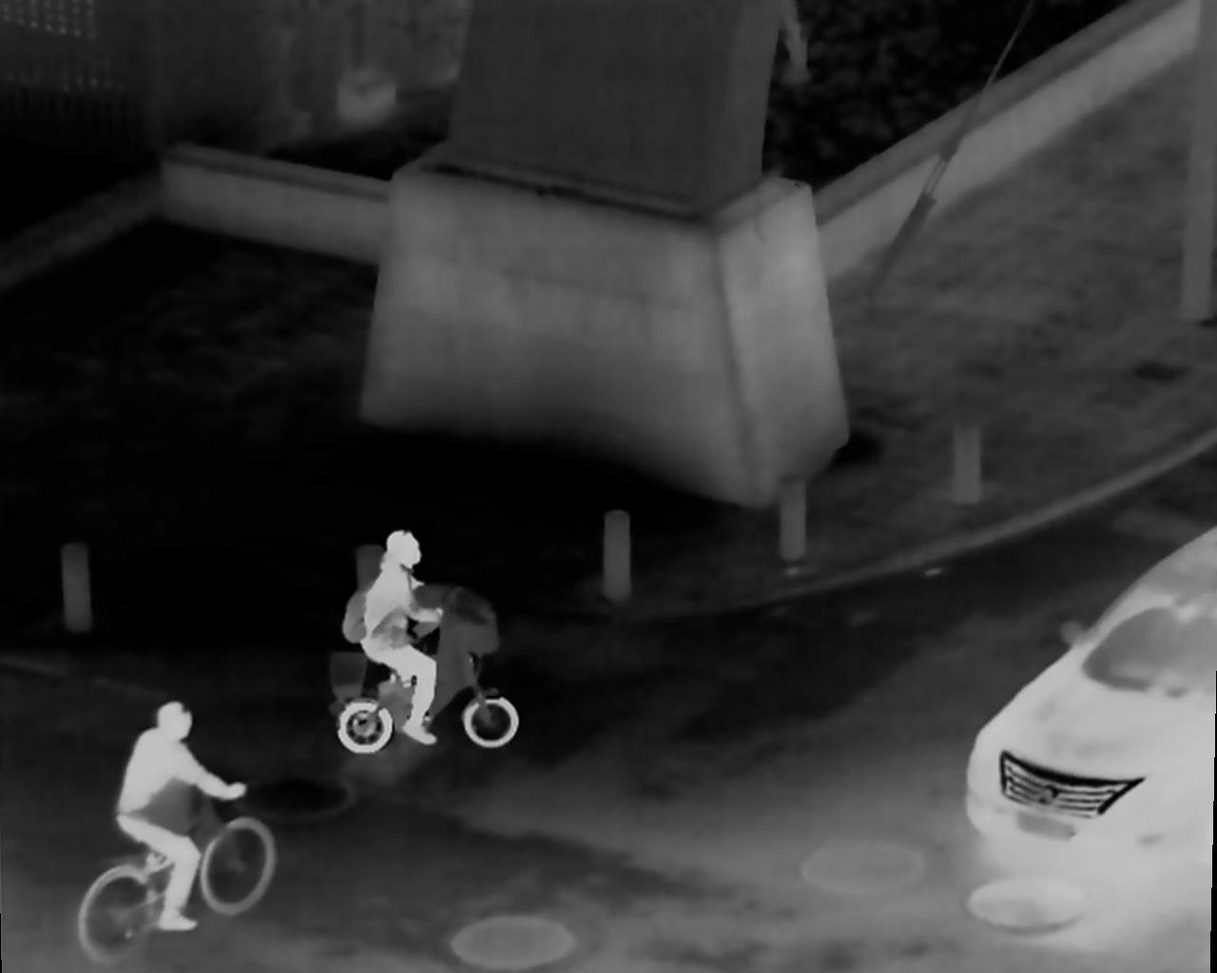person: (126, 699, 252, 927), (358, 533, 448, 754)
